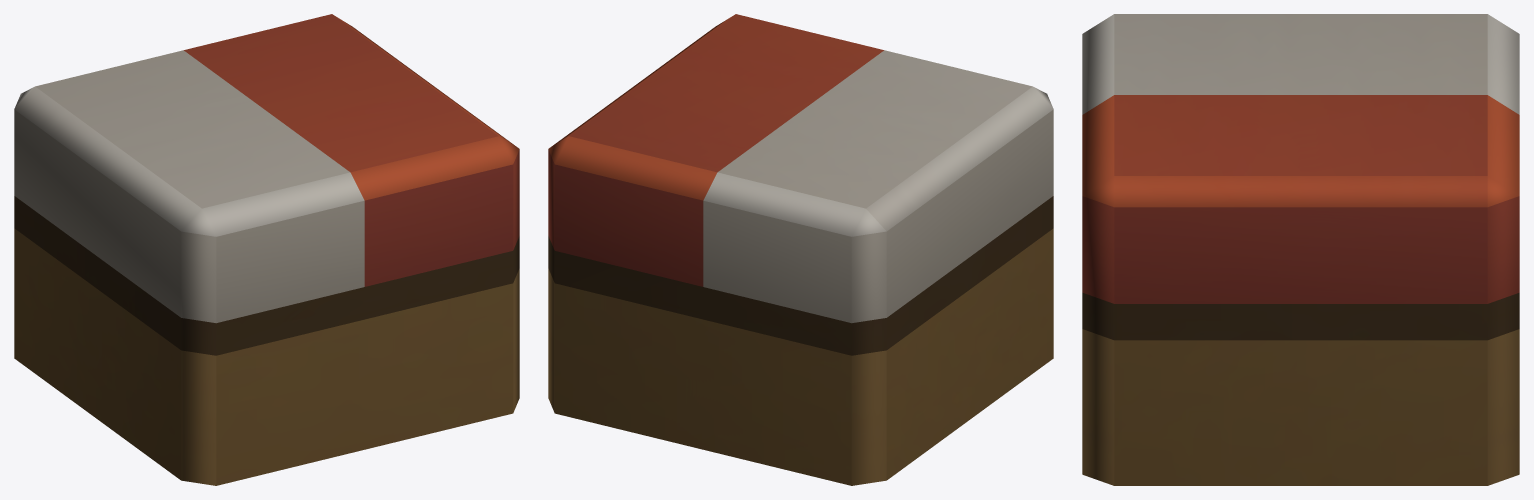
File: chair_roof_footrest_x1_red_white.fbx
The picture shows the model from 3 angles, left to right: view 1: azimuth 30°, elevation 25°; view 2: azimuth 150°, elevation 25°; view 3: azimuth 270°, elevation 25°; orthographic projection. The views are drawn at different scales.
Visible parts, largest first — view 1: chair_roof_footrest_x1_red_white; view 2: chair_roof_footrest_x1_red_white; view 3: chair_roof_footrest_x1_red_white.
Part boxes in pixels (x1,y1,x2,y2): chair_roof_footrest_x1_red_white: [14, 14, 519, 485]; chair_roof_footrest_x1_red_white: [548, 14, 1053, 485]; chair_roof_footrest_x1_red_white: [1082, 14, 1519, 485].
Size of the model in its own units: 50 by 37.68 by 50.
